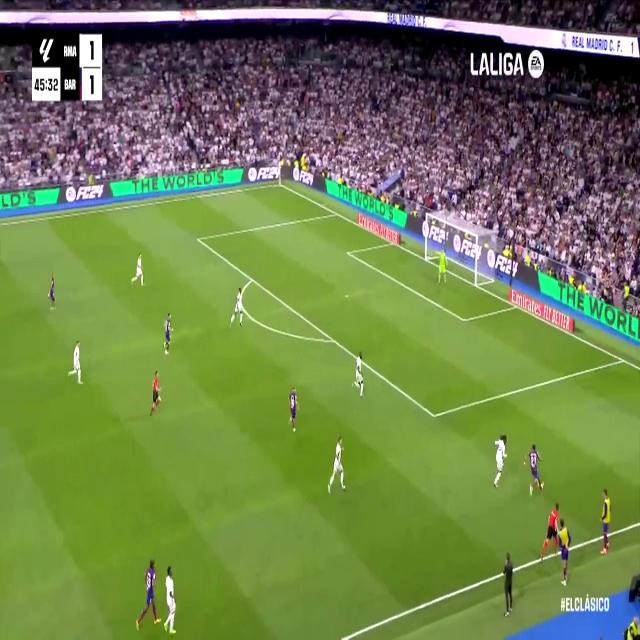bigarea_bottom_inner: (429, 402, 439, 428)
bigarea_top_inner: (194, 230, 202, 246)
bottom_arc_area_intersection: (328, 332, 338, 348)
corner: (276, 178, 283, 188)
smallarea_bottom_inner: (459, 310, 467, 328)
smallarea_bottom_outter: (618, 350, 627, 368)
smallarea_top_inner: (345, 247, 350, 257)
top_arc_area_intersection: (248, 272, 254, 285)
